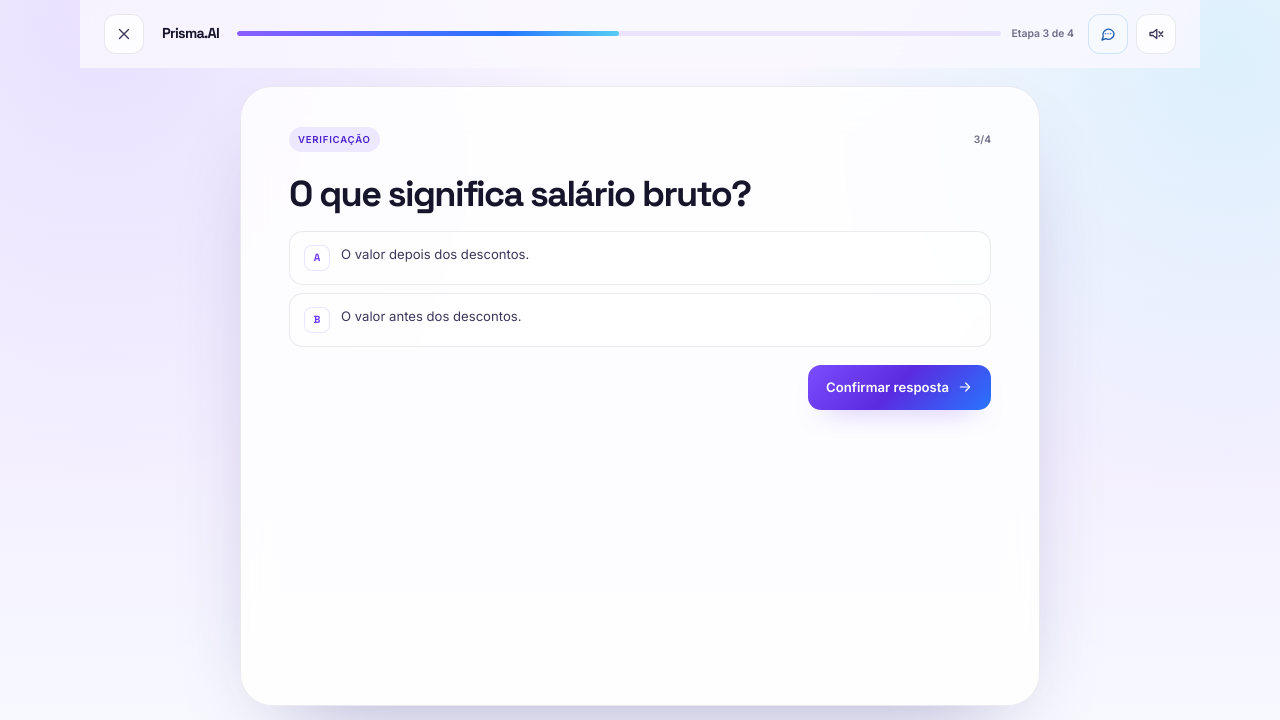
Scenario: LessonPlayerPage › requires confirmation and shows feedback before advancing
Check: the heading "O que significa salário bruto?" is shown, box [289,171,750,217]
Check: the text "Exato! O bruto" is not shown
Step 1. Click the radio button labelled "O valor antes dos descontos." → coordinates (431, 316), box [289,293,991,347]
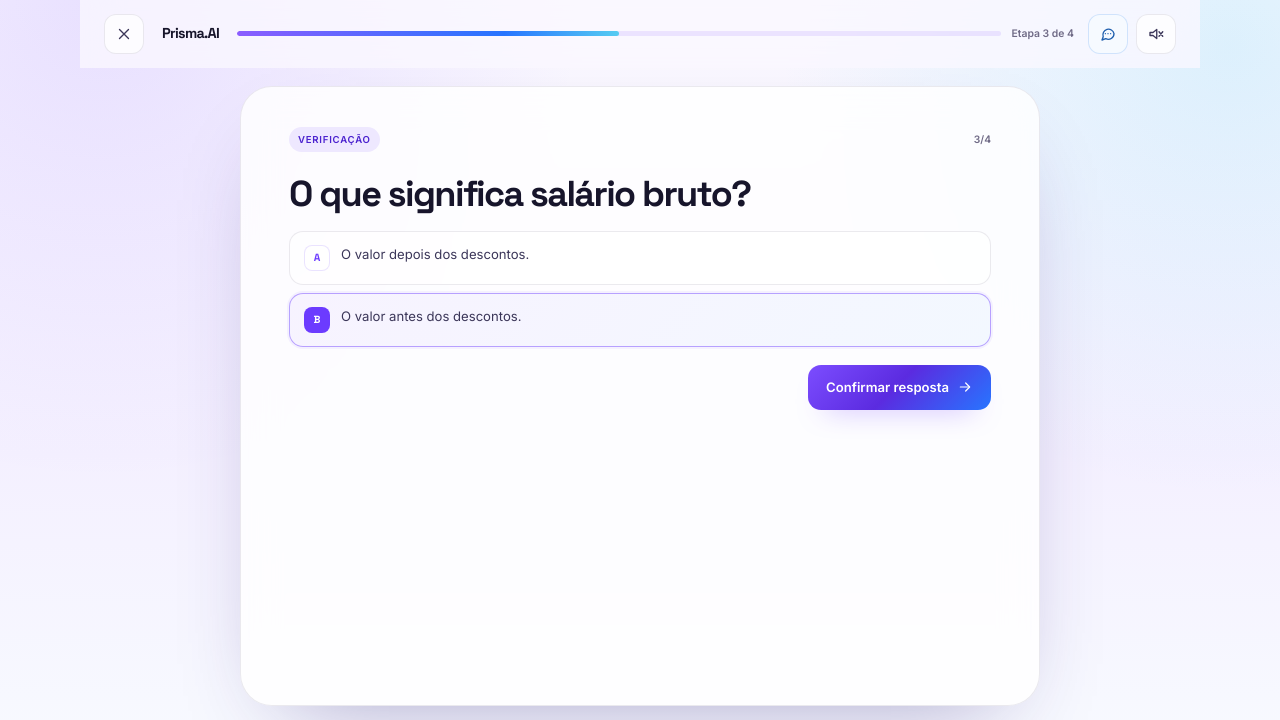
Step 2. Click the button "Confirmar resposta" → coordinates (900, 387), box [808,365,991,410]
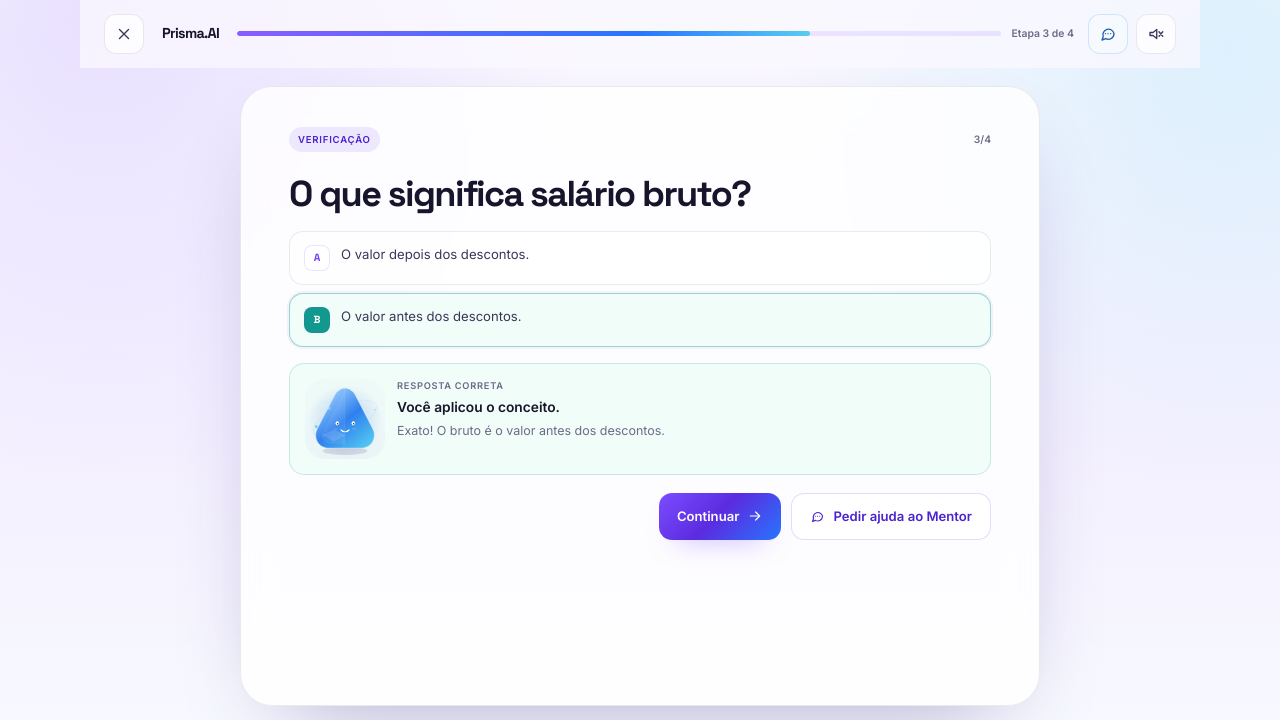
Check: the text "Resposta correta" is shown, box [397,380,504,391]
Check: the text "Exato! O bruto é o valor antes dos descontos." is shown, box [397,422,665,438]
Step 3. Click the button "Continuar" → coordinates (720, 516), box [659,493,781,540]
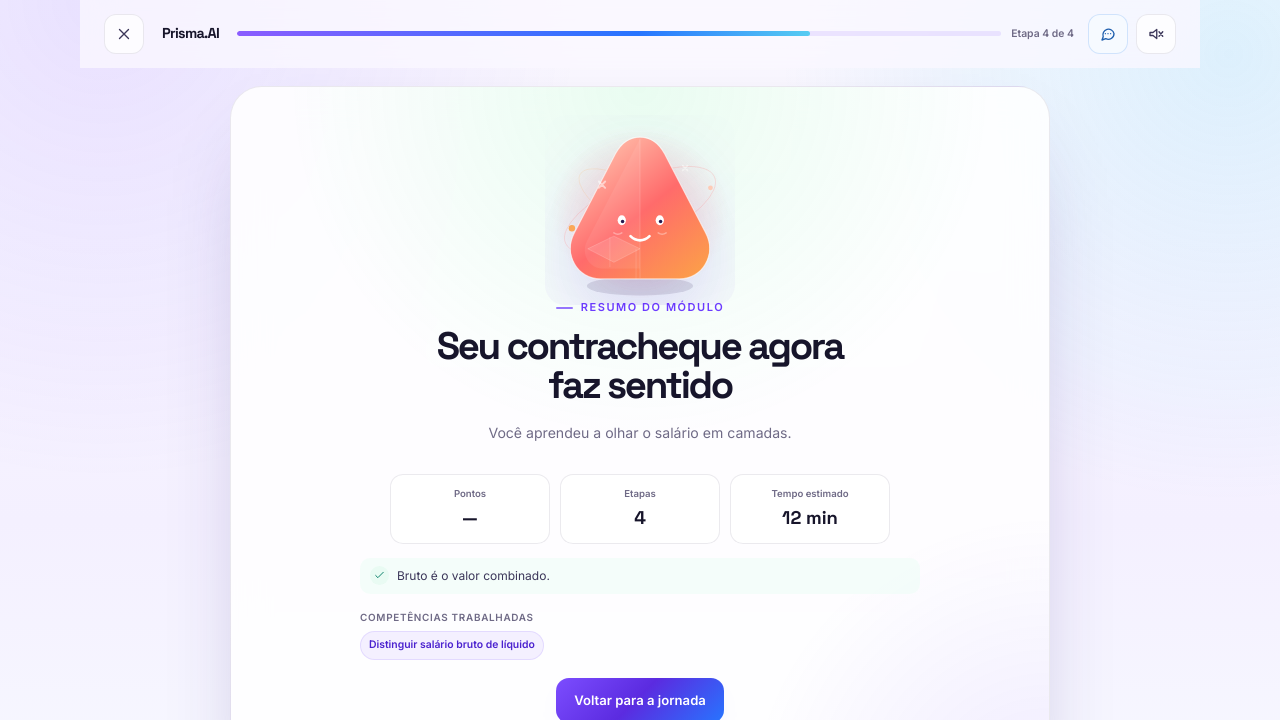
Check: the heading "Seu contracheque agora faz sentido" is shown, box [416,326,864,405]
